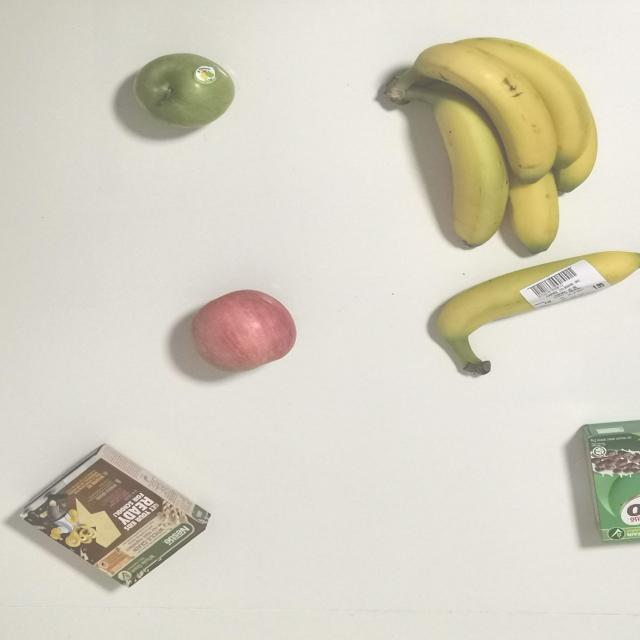Apple: (182, 288, 302, 377), (126, 45, 246, 134)
Banana: (364, 39, 620, 252), (420, 240, 640, 384)
Cerealbox: (0, 443, 224, 601), (581, 414, 640, 552)
